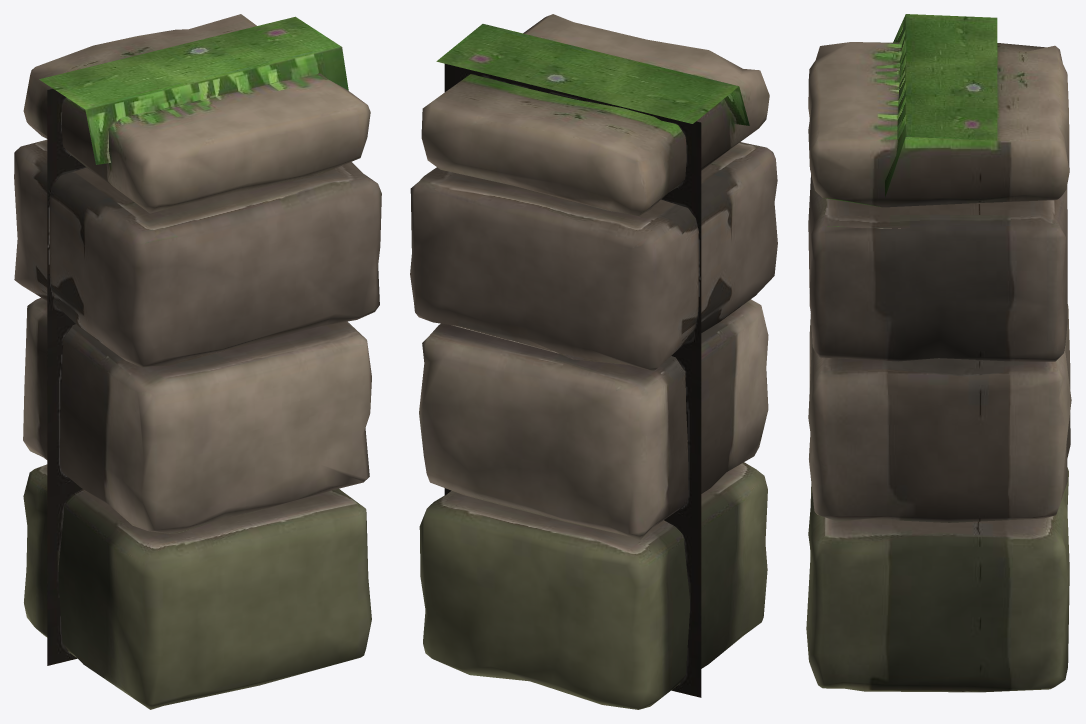
File: wall_corner.glb
3 renders of one model, left to right at view 1: azimuth 30°, elevation 25°; view 2: azimuth 150°, elevation 25°; view 3: azimuth 270°, elevation 25°, orthographic.
Visible parts, largest first — view 1: wall_corner; view 2: wall_corner; view 3: wall_corner.
Part boxes in pixels (x1=…): wall_corner: x1=14, y1=14, x2=381, y2=709; wall_corner: x1=410, y1=14, x2=777, y2=709; wall_corner: x1=806, y1=14, x2=1071, y2=692.
Bounding box in the file's own units: 0.7048 × 1.52 × 0.6384.
1 material, 1 textured.
